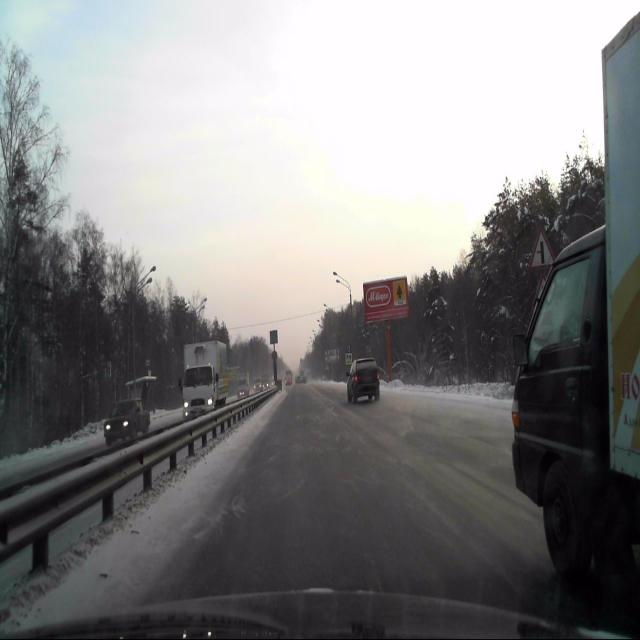road sign: (529, 230, 555, 271)
